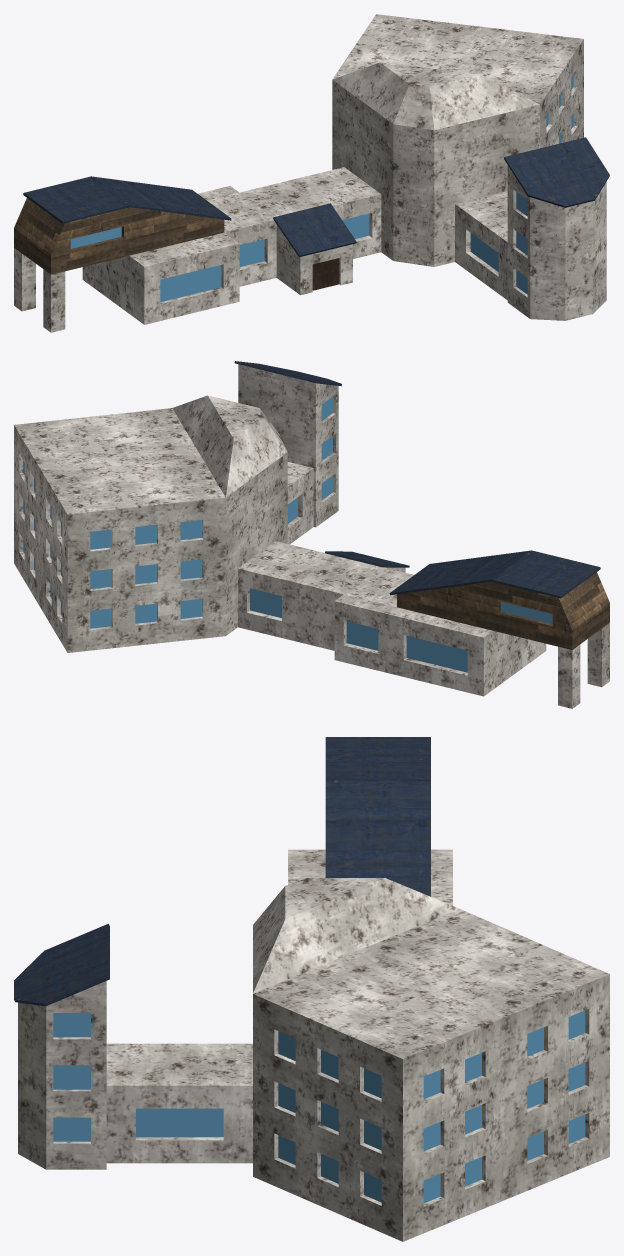
The model's file is Zniszczone budynki_v1.fbx.
The picture shows the model from 3 angles, top to bottom: view 1: azimuth 30°, elevation 25°; view 2: azimuth 150°, elevation 25°; view 3: azimuth 270°, elevation 25°; orthographic projection. The views are drawn at different scales.
Parts seen in each view (by area): view 1: Cube; view 2: Cube; view 3: Cube.
Part boxes in pixels (x1=…): Cube: x1=14, y1=14, x2=609, y2=332; Cube: x1=14, y1=361, x2=609, y2=708; Cube: x1=14, y1=737, x2=609, y2=1241.
Size of the model in its own units: 4299 by 1242 by 2961.
